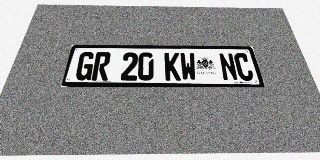0: (137, 52, 153, 81)
2: (120, 52, 138, 81)
C: (233, 53, 255, 81)
G: (74, 52, 96, 80)
K: (164, 53, 181, 81)
N: (218, 53, 239, 81)
R: (91, 52, 111, 80)
W: (179, 53, 197, 81)
